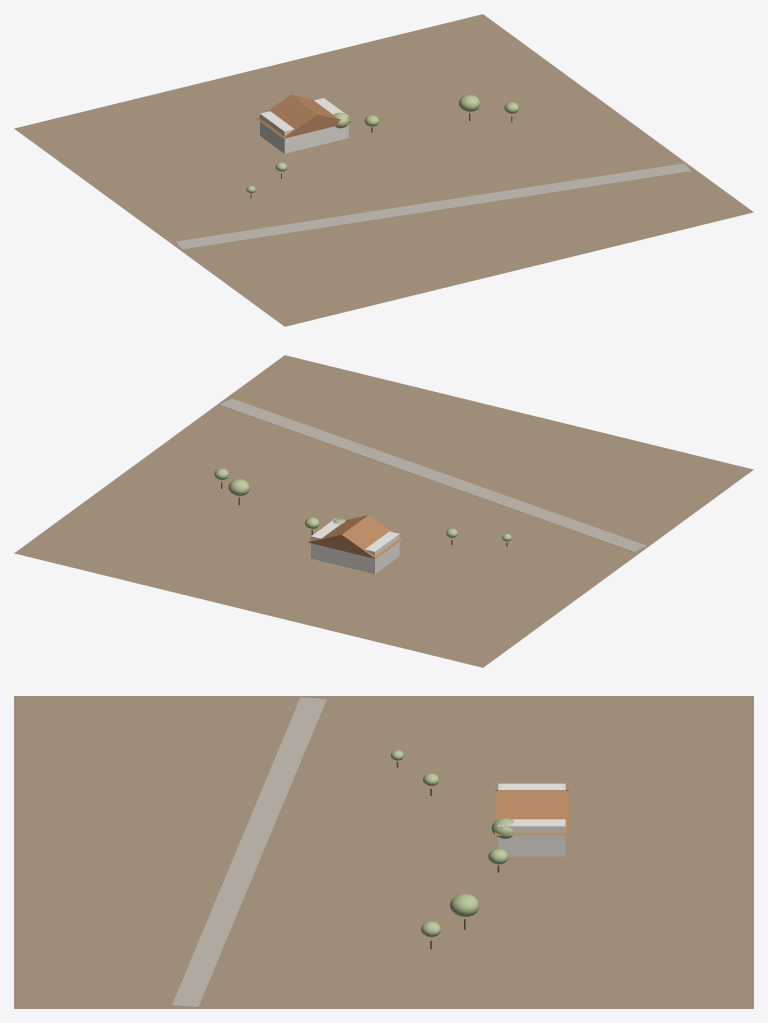
The model's file is site-context.glb.
3 views of the same model, one above another, from view 1: azimuth 30°, elevation 25°; view 2: azimuth 150°, elevation 25°; view 3: azimuth 270°, elevation 25° (orthographic). The views are drawn at different scales.
Visible parts, largest first — view 1: Site_Ground, Road, Neighbour_House, Neighbour_Roof; view 2: Site_Ground, Road, Neighbour_House, Neighbour_Roof; view 3: Site_Ground, Road, Neighbour_House, Neighbour_Roof, Sphere.006.
Part boxes in pixels (x1=…): Site_Ground: x1=14, y1=14, x2=753, y2=326; Road: x1=175, y1=163, x2=690, y2=249; Neighbour_House: x1=260, y1=98, x2=348, y2=153; Neighbour_Roof: x1=257, y1=94, x2=351, y2=138; Site_Ground: x1=14, y1=355, x2=753, y2=667; Road: x1=220, y1=398, x2=646, y2=551; Neighbour_House: x1=311, y1=518, x2=399, y2=573; Neighbour_Roof: x1=308, y1=515, x2=402, y2=558; Site_Ground: x1=14, y1=696, x2=753, y2=1008; Road: x1=172, y1=697, x2=326, y2=1007; Neighbour_House: x1=498, y1=783, x2=565, y2=856; Neighbour_Roof: x1=495, y1=790, x2=568, y2=835; Sphere.006: x1=450, y1=893, x2=479, y2=917.
Size of the model in its own units: 110 by 7.45 by 110.
